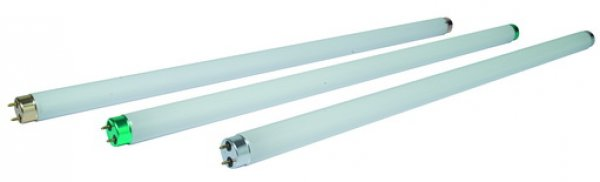Light_bulb: (212, 24, 600, 174), (100, 18, 526, 152), (6, 14, 455, 126)
